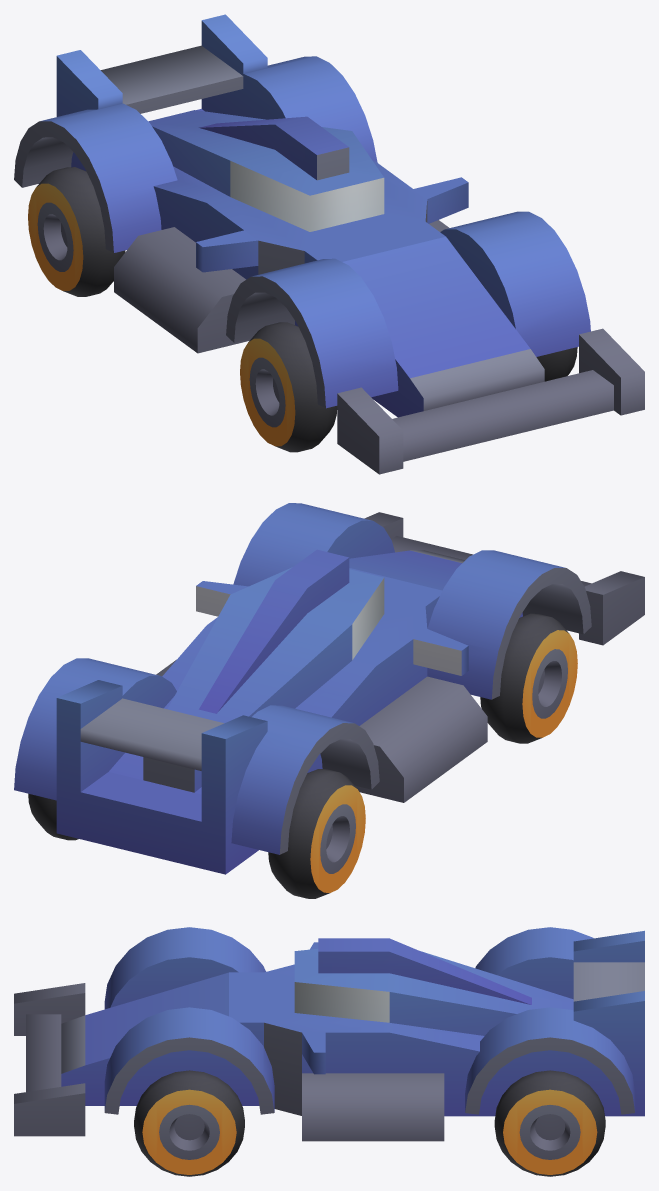
Rendered from car.glb.
3 views of the same model, one above another, from view 1: azimuth 30°, elevation 25°; view 2: azimuth 150°, elevation 25°; view 3: azimuth 270°, elevation 25° (orthographic). The views are drawn at different scales.
Parts seen in each view (by area): view 1: body_mesh, wheel_fr_mesh, wheel_rr_mesh, wheel_fl_mesh; view 2: body_mesh, wheel_rr_mesh, wheel_fr_mesh, wheel_rl_mesh; view 3: body_mesh, wheel_rl_mesh, wheel_fl_mesh.
Boxes of the visible parts, bbox=[...] form: body_mesh: bbox=[14, 14, 644, 474]; wheel_fr_mesh: bbox=[240, 322, 337, 452]; wheel_rr_mesh: bbox=[28, 167, 125, 296]; wheel_fl_mesh: bbox=[536, 347, 577, 381]; body_mesh: bbox=[14, 503, 644, 874]; wheel_rr_mesh: bbox=[268, 769, 365, 898]; wheel_fr_mesh: bbox=[480, 613, 577, 743]; wheel_rl_mesh: bbox=[28, 793, 78, 840]; body_mesh: bbox=[14, 927, 644, 1141]; wheel_rl_mesh: bbox=[494, 1070, 605, 1176]; wheel_fl_mesh: bbox=[134, 1070, 244, 1176].
Size of the model in its own units: 2.05 by 1.42 by 4.55.
Materials: 1 (1 with a texture image).
